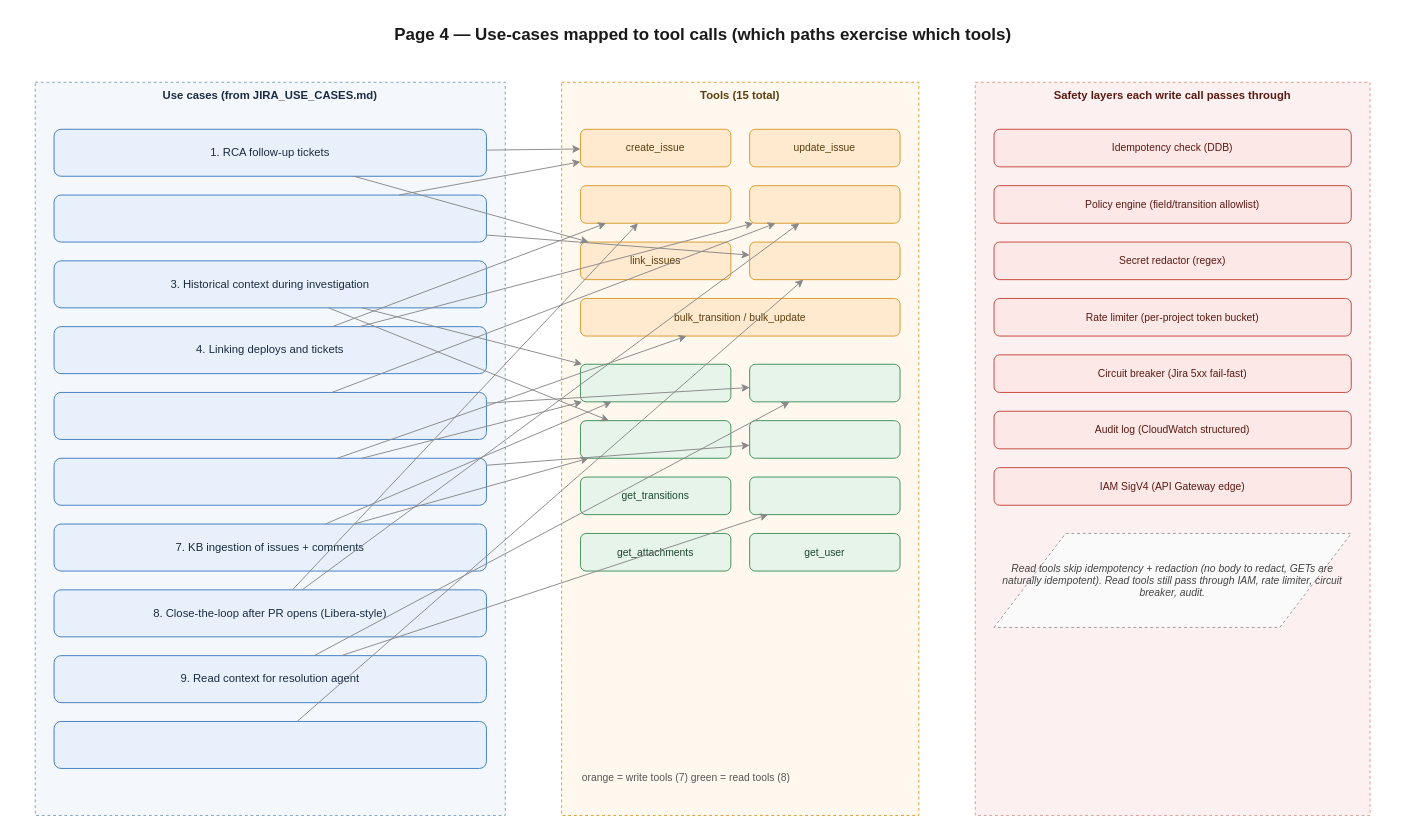
The diagram is 1404 pixels wide and 832 high, and some of its shapes have lost their labels. The shapes that lost their labels are listed below. From the top down, each one's centre as x and y in pixels, then its label:
point (269, 218): 2. Bug tickets from agent findings
point (655, 204): transition_issue
point (824, 204): add_comment
point (824, 260): add_attachment
point (655, 382): search_issues_jql
point (824, 382): get_issue
point (269, 415): 5. Enriching existing tickets (webhook-triggered)
point (655, 439): get_issue_comments
point (824, 439): get_issue_changelog
point (269, 481): 6. SLA / staleness sweeps (cron)
point (824, 495): get_project_metadata
point (269, 744): 10. Diagnostic upload (logs / flame graphs)
